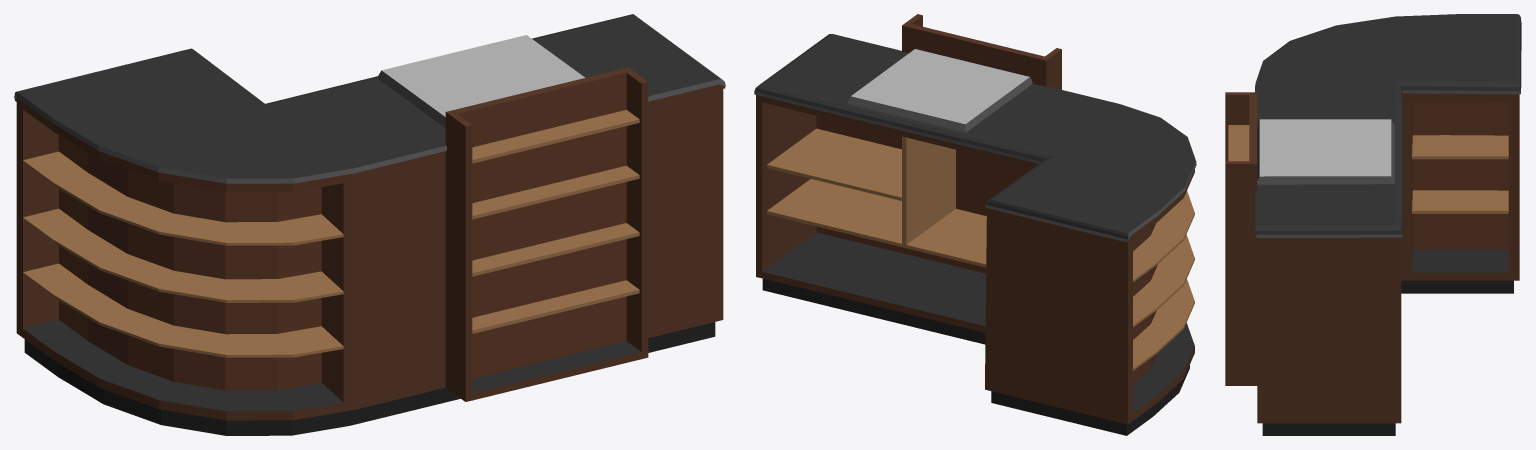
File: Checkout Counter #1.fbx
The picture shows the model from 3 angles, left to right: view 1: azimuth 30°, elevation 25°; view 2: azimuth 150°, elevation 25°; view 3: azimuth 270°, elevation 25°; orthographic projection. The views are drawn at different scales.
Parts seen in each view (by area): view 1: Checkout Counter #1; view 2: Checkout Counter #1; view 3: Checkout Counter #1.
Boxes of the visible parts, <box> form: Checkout Counter #1: <box>14,14,725,435</box>; Checkout Counter #1: <box>754,14,1196,435</box>; Checkout Counter #1: <box>1225,14,1521,435</box>.
Size of the model in its own units: 226 by 116 by 132.
Materials: 1 (1 with a texture image).
